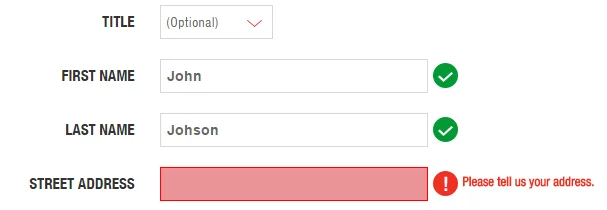error_field: (159, 166, 428, 201)
error_message: (460, 175, 595, 188)
